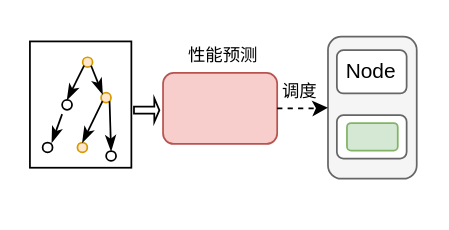
This 449x230 diagram has some shape labels left out. Here are the shapes that lost their labels. From the top down, the centre of each, then its label:
At point (219, 107): "GNN Predictor".
At point (371, 136): "Pod".
